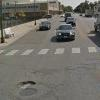Crosswalk: (4, 42, 99, 58)
